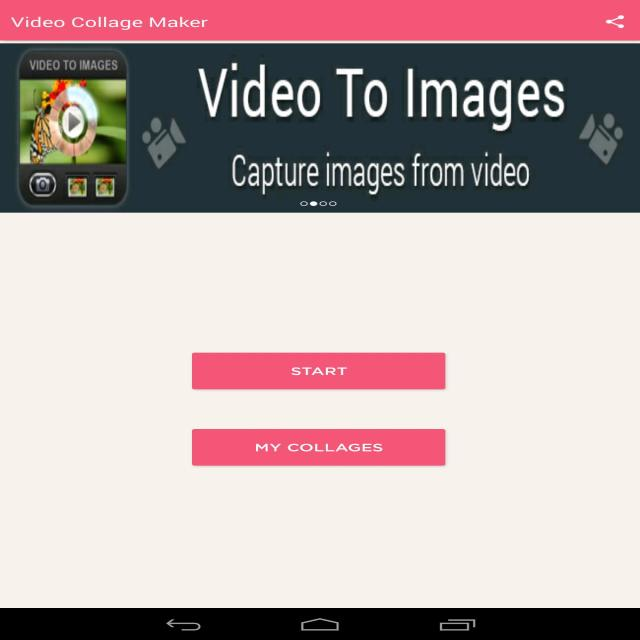button: (193, 429, 445, 466), (192, 353, 445, 389), (601, 12, 629, 30)
heading: (8, 14, 208, 33)
image: (0, 43, 639, 213)
